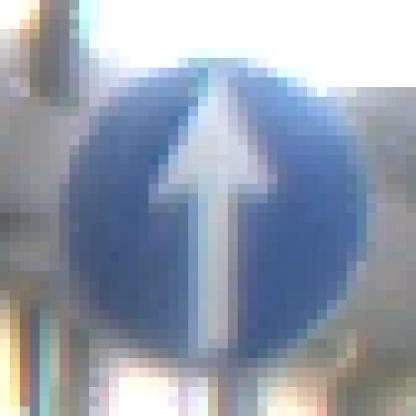straight: (49, 48, 376, 378)
